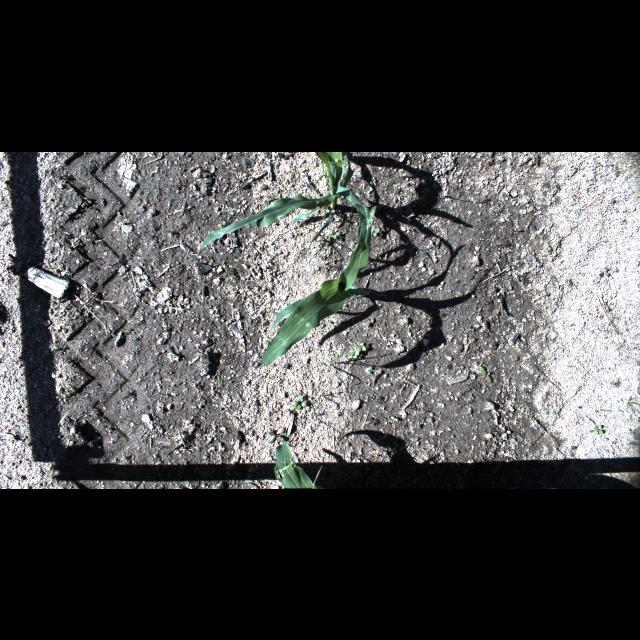crop: (261, 185, 377, 367), (200, 151, 352, 247), (274, 440, 324, 488)
weed: (268, 428, 286, 442), (294, 393, 306, 411), (346, 348, 360, 358), (598, 267, 612, 277), (369, 225, 379, 238), (482, 368, 490, 384), (328, 228, 340, 238), (355, 341, 367, 351), (474, 362, 484, 371), (594, 426, 604, 434), (389, 415, 399, 423), (554, 238, 560, 248), (366, 366, 372, 374), (546, 242, 552, 250), (635, 416, 639, 424), (628, 432, 636, 436), (515, 276, 519, 282), (487, 152, 493, 156)
